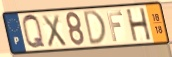8: (65, 11, 85, 48)
D: (83, 9, 108, 47)
F: (105, 9, 124, 43)
H: (125, 7, 153, 44)
Q: (21, 13, 47, 51)
X: (40, 13, 68, 49)
